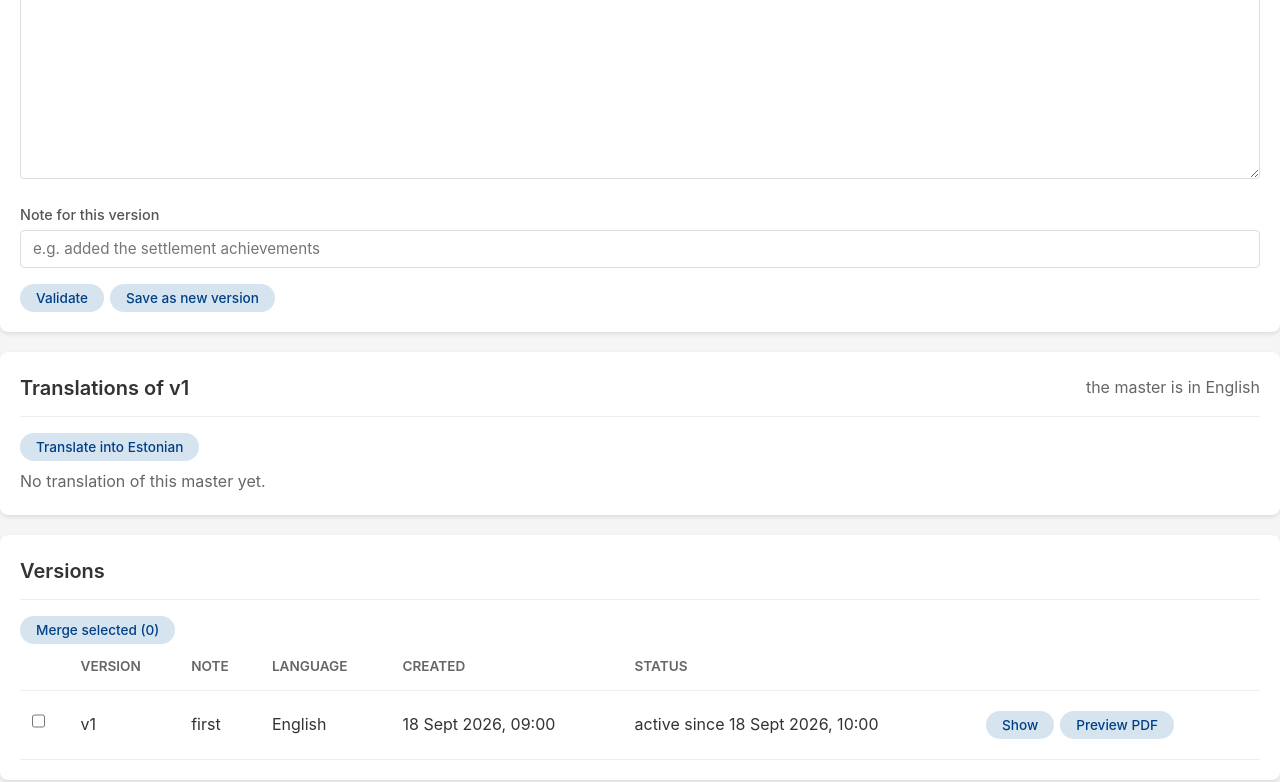
Test: MasiCv › translations › translates the master into the other language and follows the model until it is done
The width and height of the screenshot is (1280, 782).
(page scrolled)
Click the button "Translate into Estonian" at (110, 447), box [20,433,199,461]
Wait 5000 ms
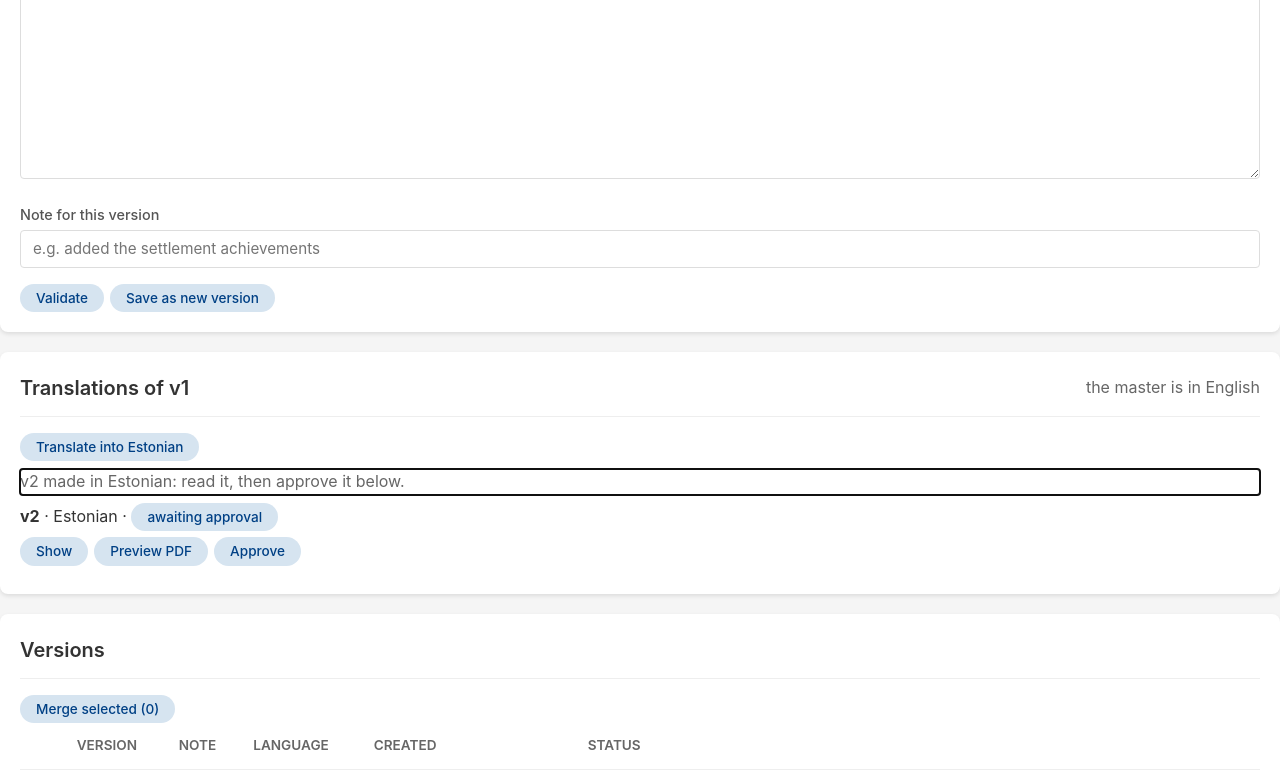
Result: the text "v2 made in Estonian: read it, then approve it below." is shown at [20,471,405,491]
Result: the list item with test id "translation-2" shows "awaiting approval" at [147,509,262,525]
